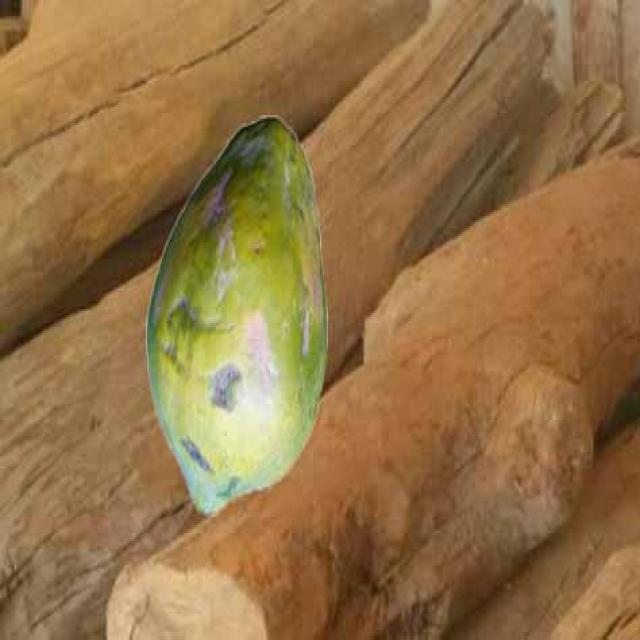Pepaya rippen: (147, 109, 334, 521)
